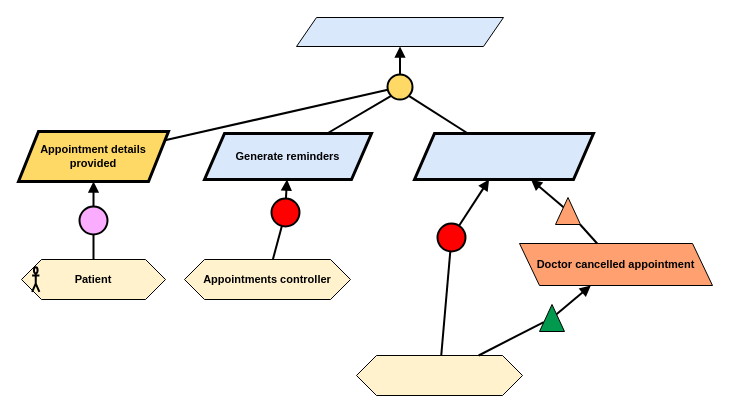
Some shapes in this 730 by 413 pixel diagram are drawn without their labels. The shapes that lost their labels are listed below. From the top down, each one's centre as x and y in pixels, then its label:
(x=400, y=31): Send appointment reminders
(x=503, y=156): Notify patient
(x=439, y=375): Message controller
